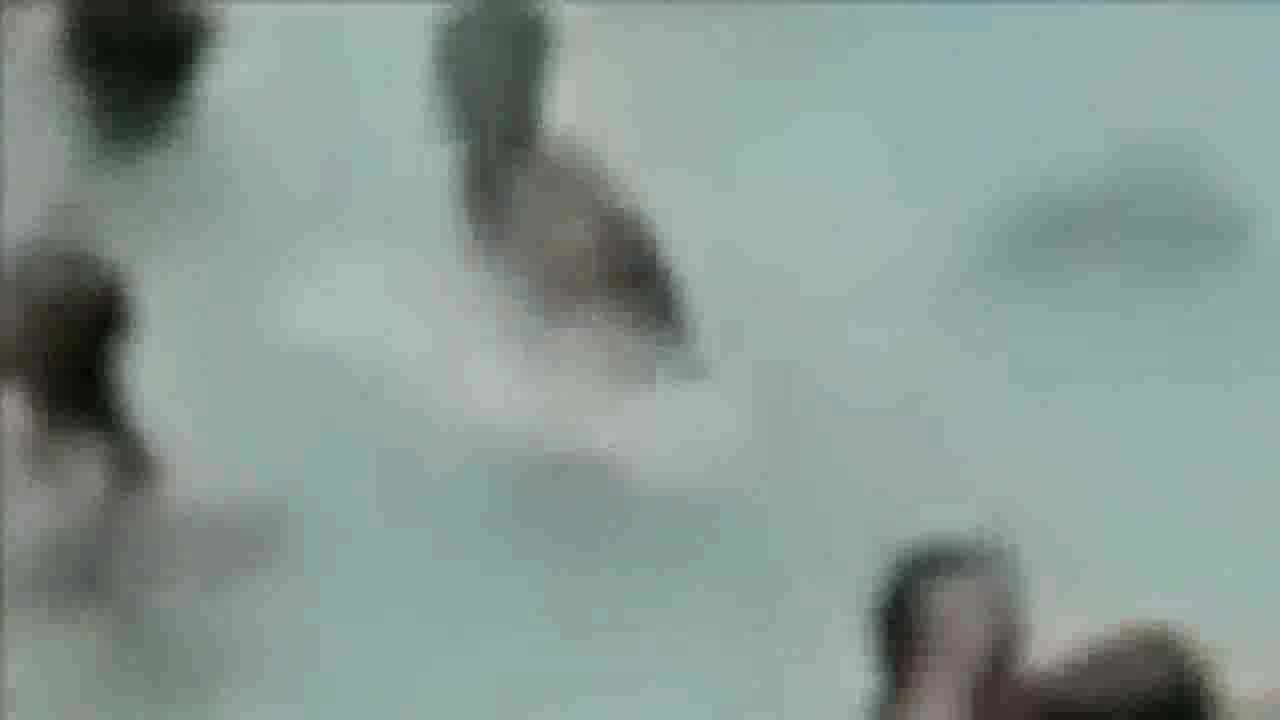Drowning: (299, 212, 745, 439)
